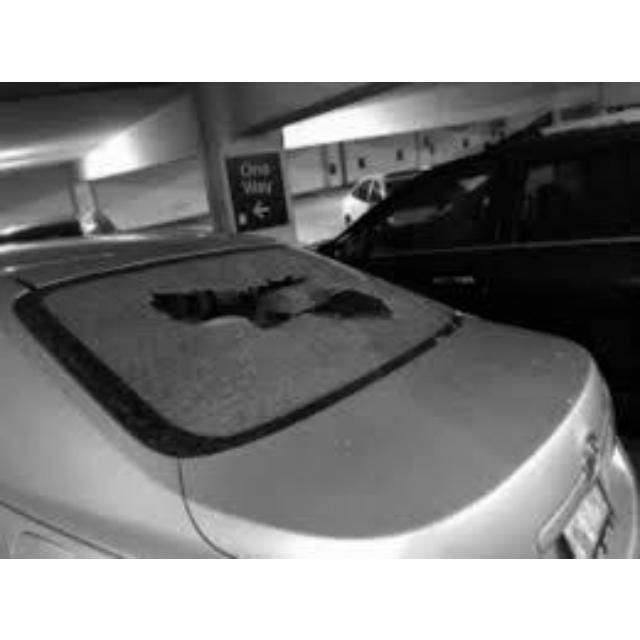Rear-windscreen-Damage: (40, 246, 438, 450)
